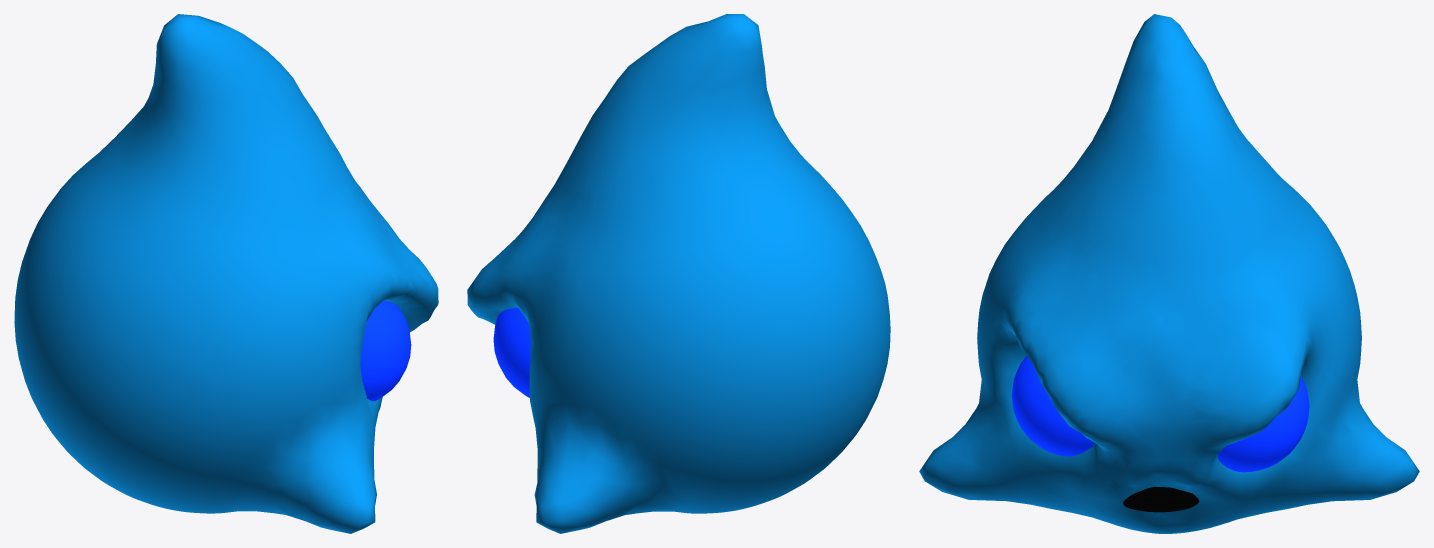
The model's file is water enemy.fbx.
3 views of the same model, side by side, from view 1: azimuth 30°, elevation 25°; view 2: azimuth 150°, elevation 25°; view 3: azimuth 270°, elevation 25° (orthographic).
Visible parts, largest first — view 1: Sphere.007, Sphere.002; view 2: Sphere.007, Sphere.008; view 3: Sphere.007, Sphere.002, Sphere.008, Sphere.003.
Part boxes in pixels (<box>): Sphere.007: <box>14,14,438,533</box>; Sphere.002: <box>360,300,411,401</box>; Sphere.007: <box>467,14,890,533</box>; Sphere.008: <box>493,307,530,397</box>; Sphere.007: <box>919,14,1419,533</box>; Sphere.002: <box>1011,356,1094,456</box>; Sphere.008: <box>1217,376,1309,472</box>; Sphere.003: <box>1123,486,1199,512</box>.
Size of the model in its own units: 378 by 499 by 469.
